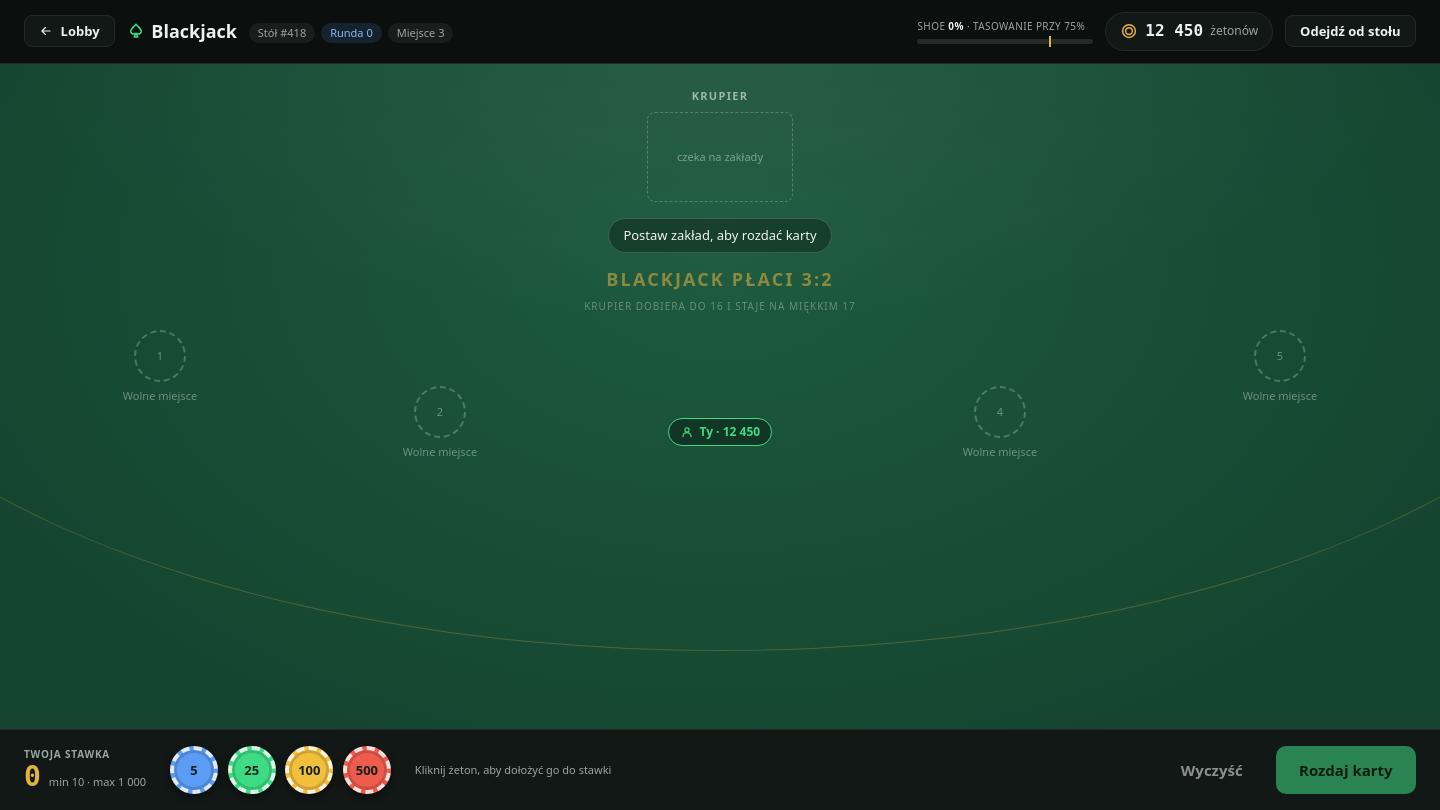
Scenario: BlackjackTablePage › shows the message when the server rejects a bet
Check: the heading "Blackjack" is shown, box x1=127 y1=18 x2=237 y2=45
Click the button "25".
click(252, 770)  # box x1=228 y1=746 x2=276 y2=794
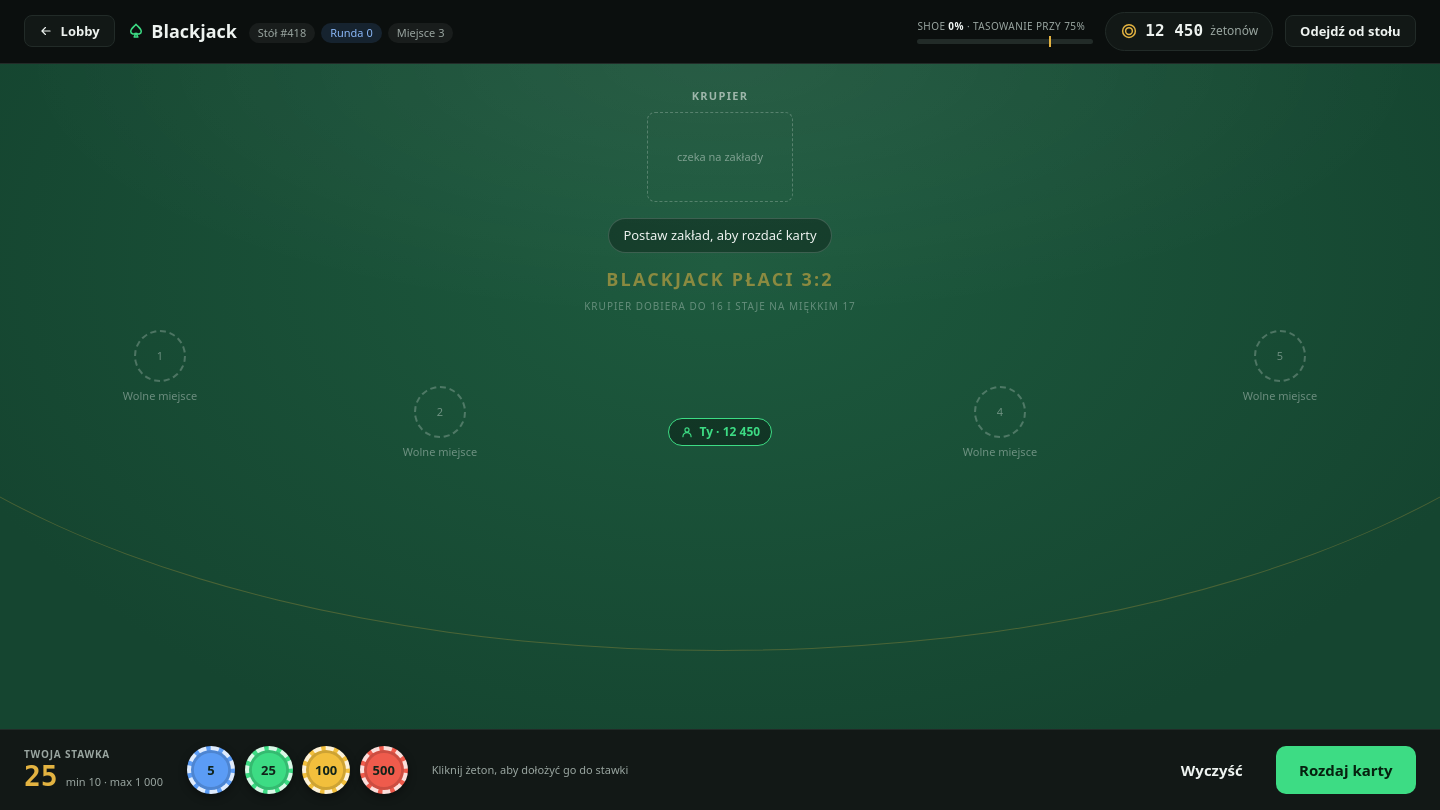
Click the button "Rozdaj karty".
click(1346, 770)  # box x1=1276 y1=746 x2=1416 y2=794
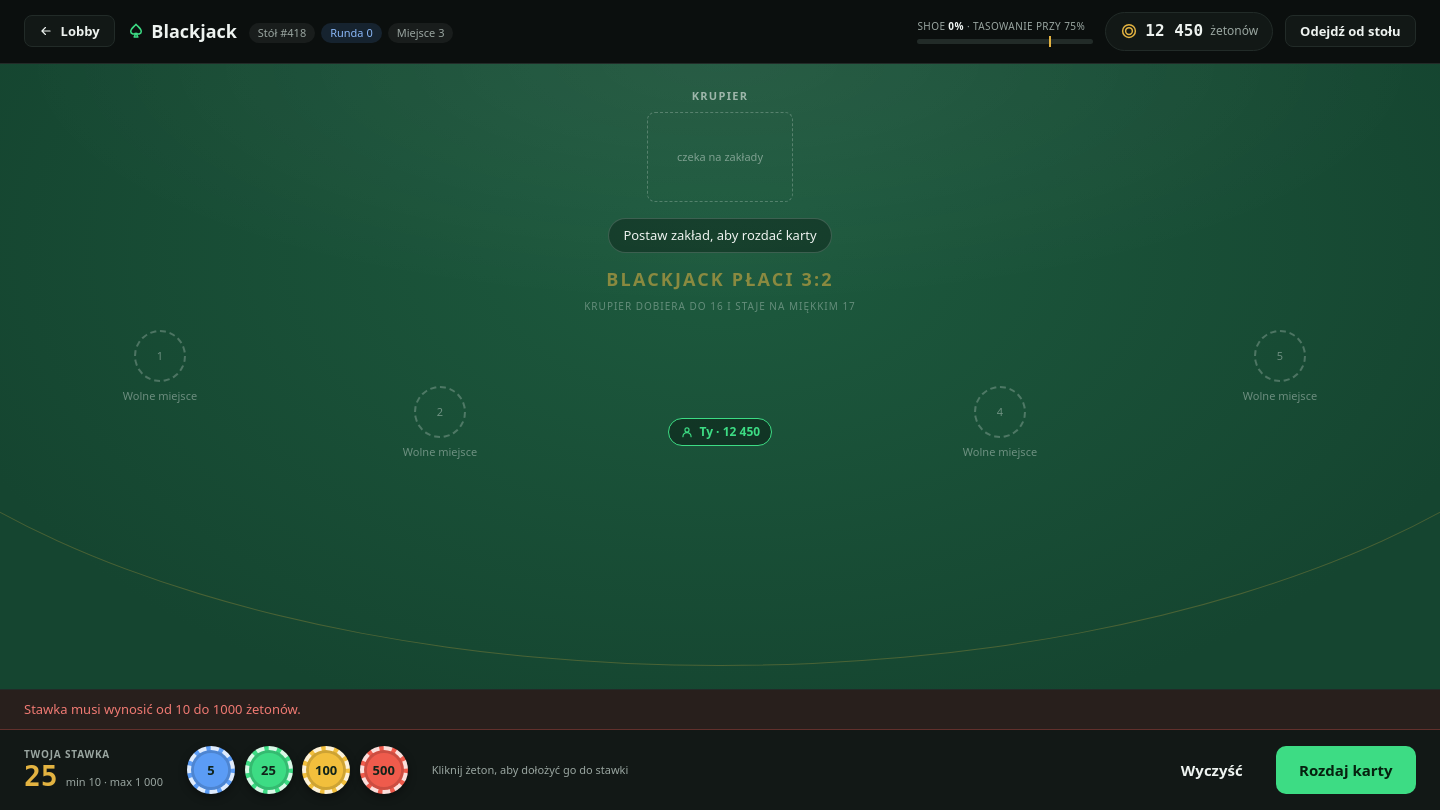
Check: the message "Stawka musi wynosić od 10 do 1000 żetonów." is shown, box x1=0 y1=690 x2=1439 y2=730
